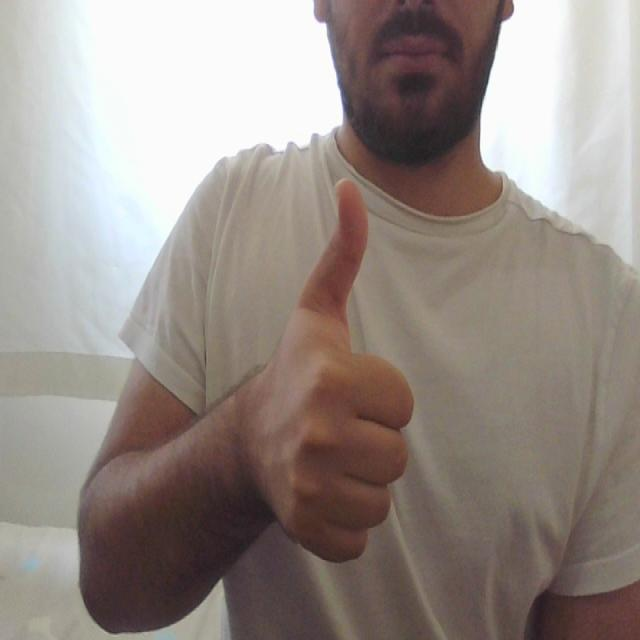Tamam: (244, 172, 423, 571)
